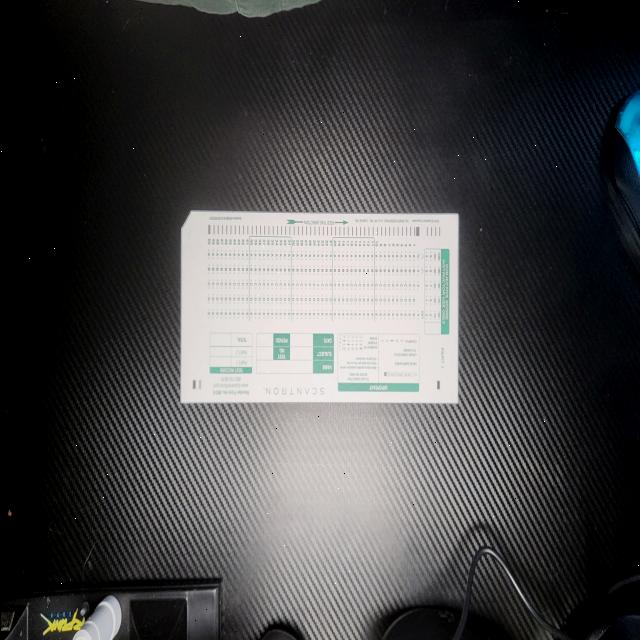scantron: (179, 210, 457, 404)
